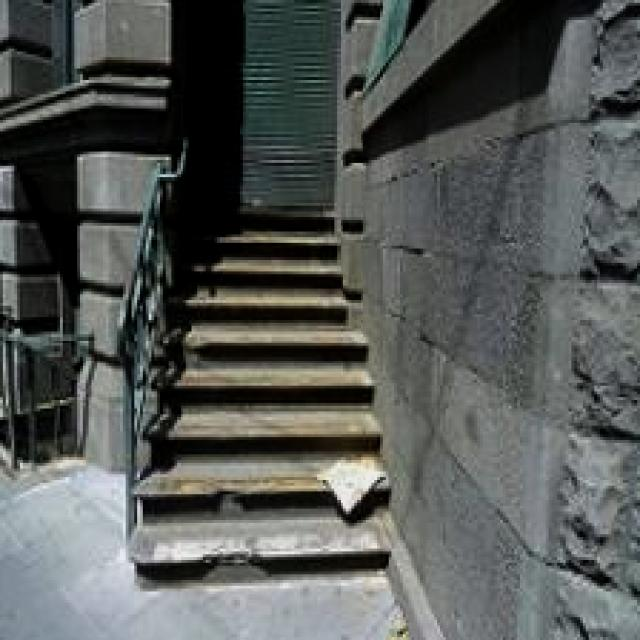upstair: (144, 164, 378, 561)
